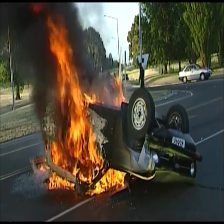fire_h: (43, 15, 106, 184), (86, 168, 125, 194), (48, 172, 75, 191), (112, 76, 125, 107)
fire_l: (39, 158, 50, 172), (34, 3, 41, 10)
